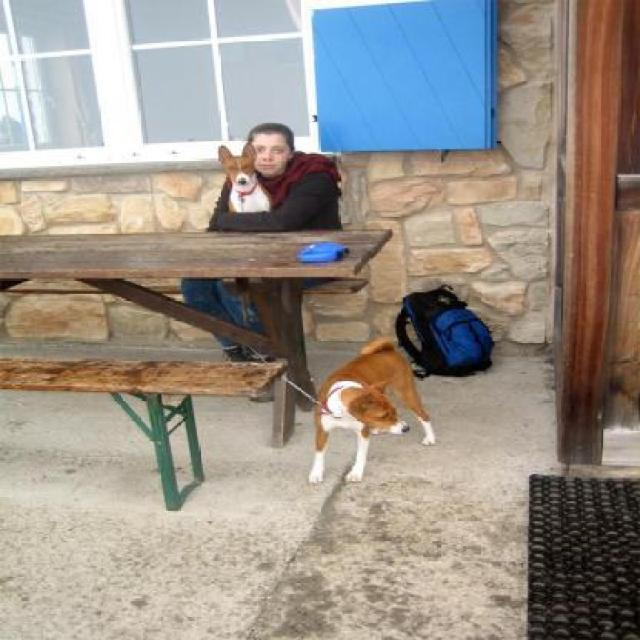backpack: (394, 283, 497, 382)
